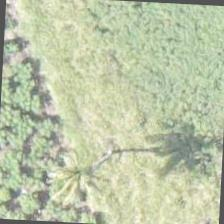Kelapa_Sawit: (34, 139, 130, 223)
